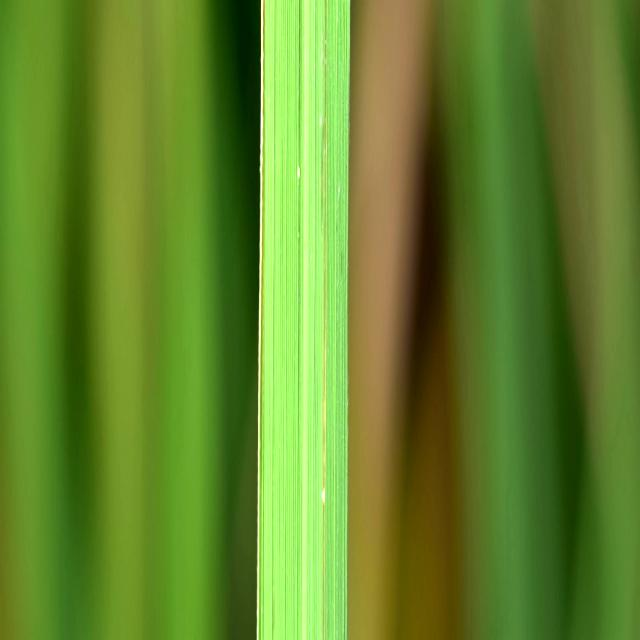BLS: (258, 0, 265, 638), (322, 0, 328, 638), (300, 0, 301, 92), (291, 0, 291, 3)
